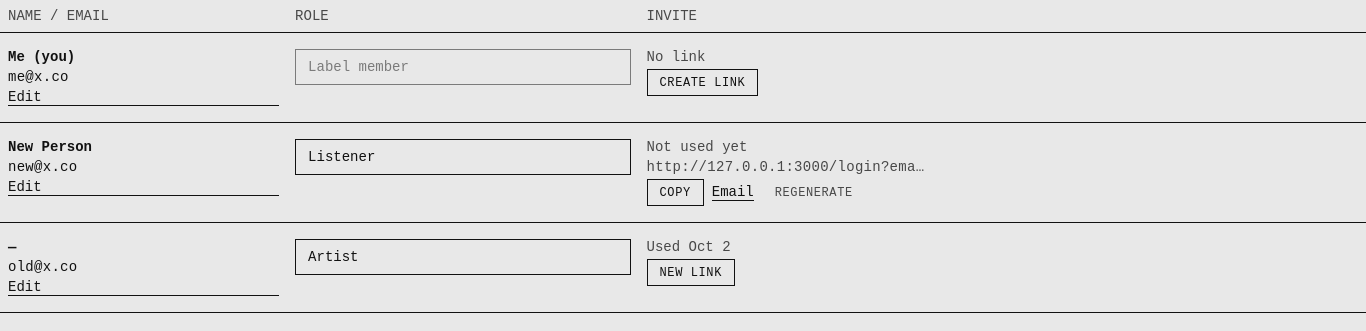
it: UsersTable › copies the URL
Click the button "Copy" at x=675, y=193, box [646, 179, 704, 206]
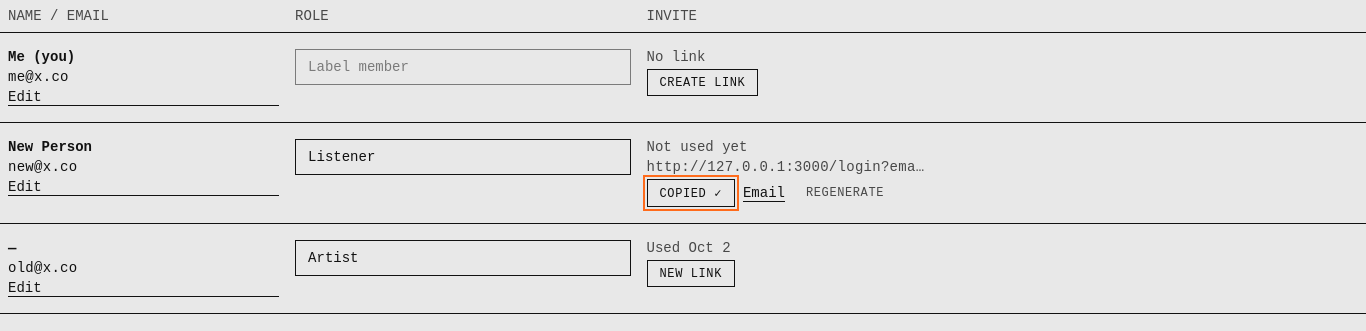
Check: the button "Copied ✓" is shown, box [646, 179, 735, 207]
